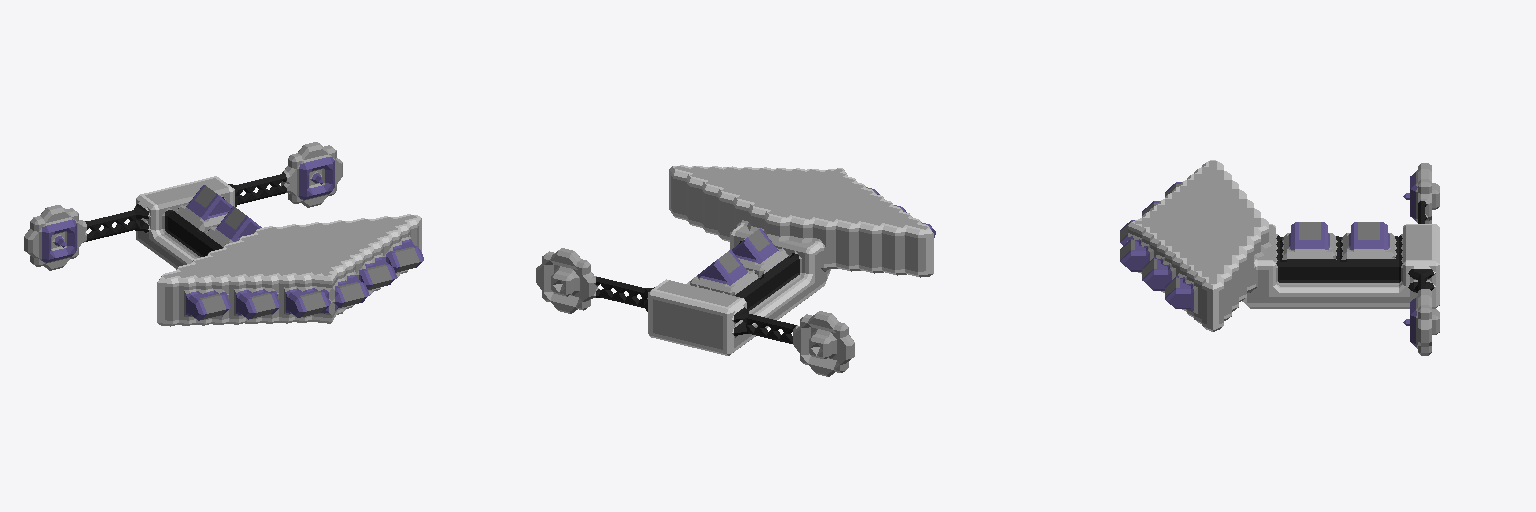
3 renders of one model, left to right at view 1: azimuth 30°, elevation 25°; view 2: azimuth 150°, elevation 25°; view 3: azimuth 270°, elevation 25°, orthographic.
Size of the model in its own units: 49 by 10 by 43.
1 materials, 1 textured.